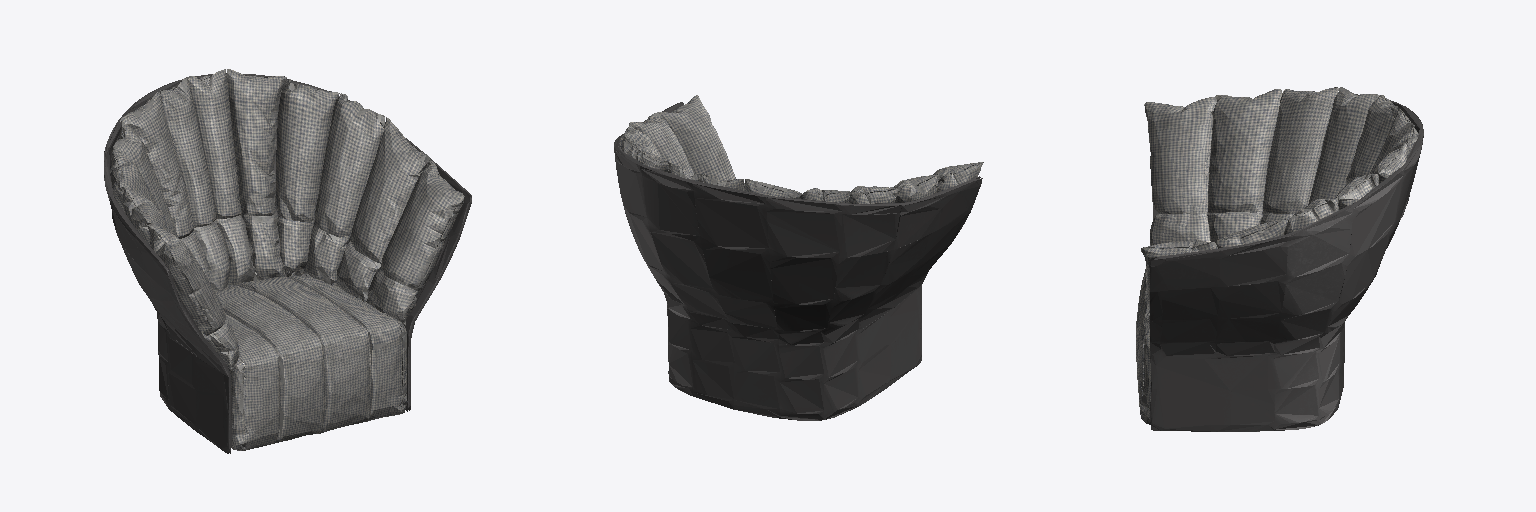
3 renders of one model, left to right at view 1: azimuth 30°, elevation 25°; view 2: azimuth 150°, elevation 25°; view 3: azimuth 270°, elevation 25°, orthographic.
Visible parts, largest first — view 1: solid_001, solid_002; view 2: solid_002, solid_001; view 3: solid_002, solid_001.
Part boxes in pixels (x1,y1,x2,y2): solid_001: (110,69,464,450); solid_002: (104,74,471,453); solid_002: (614,102,982,420); solid_001: (620,95,983,203); solid_002: (1149,94,1423,431); solid_001: (1136,87,1418,424).
Bounding box in the file's own units: 1.51 × 1.25 × 1.24.
1 materials, 1 textured.